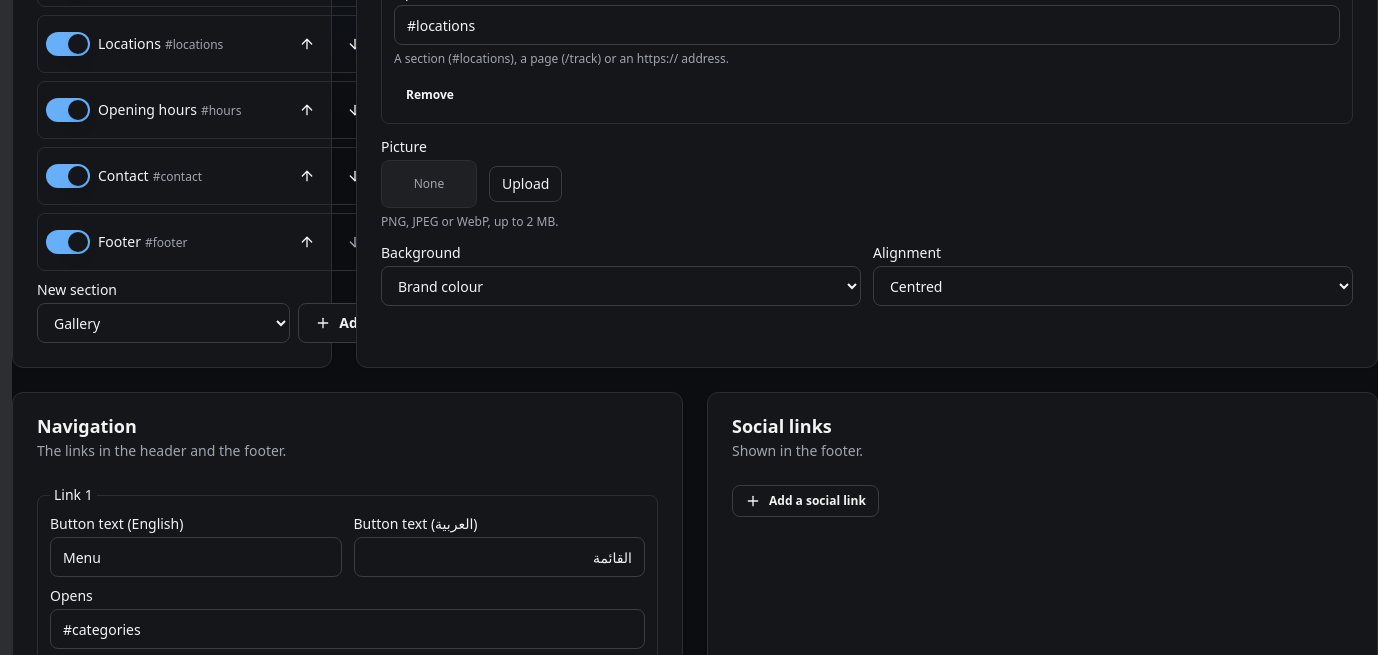
website editor (ADR 0023) › adds a section before the footer and refuses a second footer
(page scrolled)
Select "Testimonials" in the dropdown labelled "New section" at (164, 323), box [37,303,290,343]
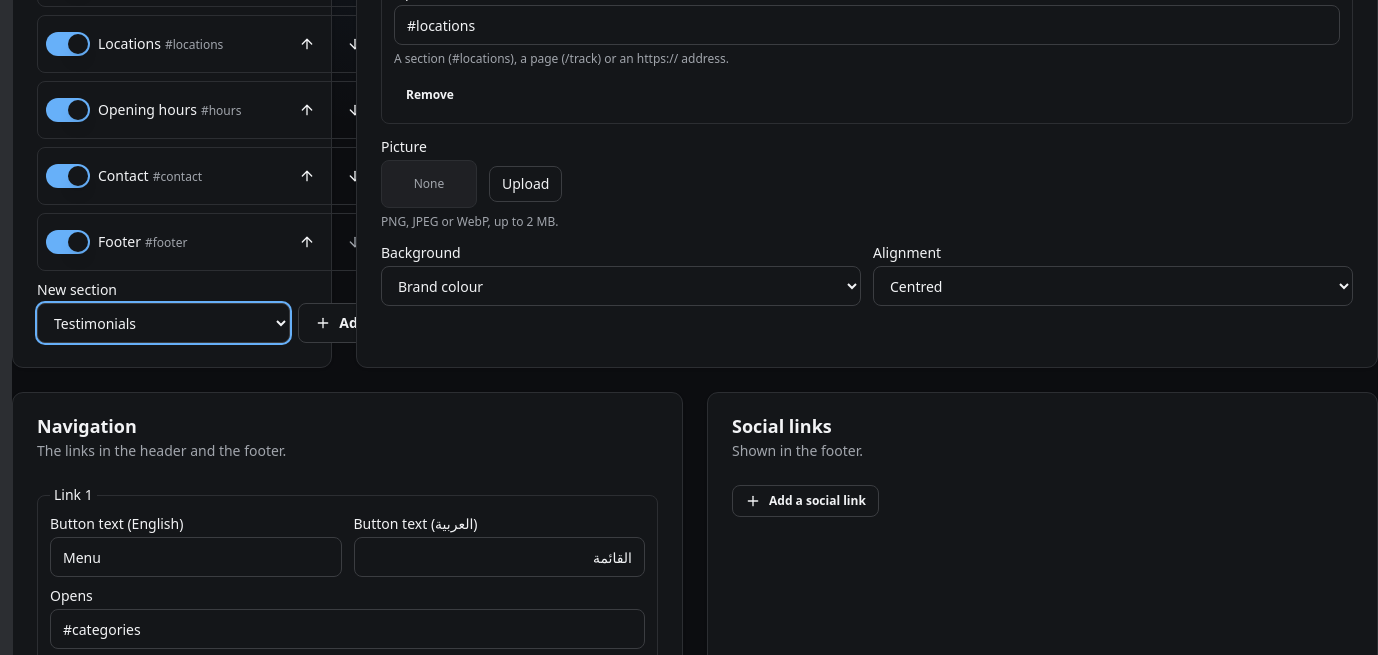
Click the button "Add" at (341, 323), box [298,303,384,343]
(page scrolled)
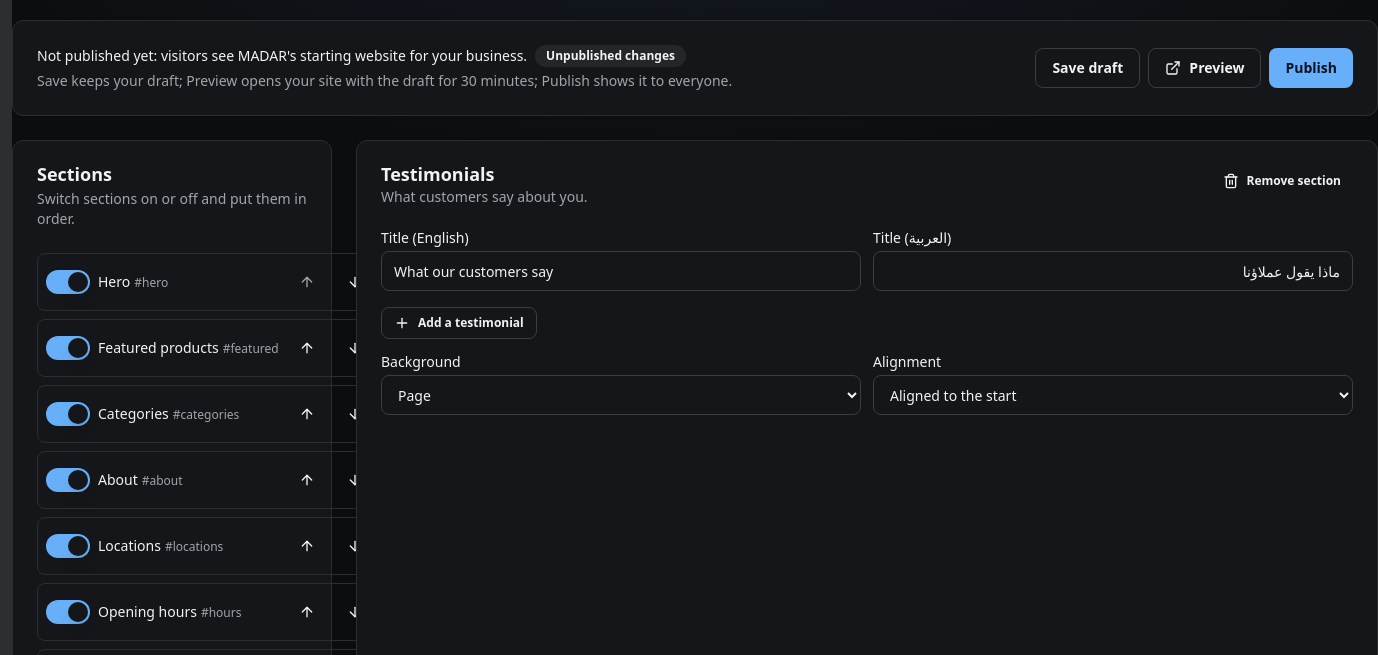
Expected: the button "Add a testimonial" is shown, [381,307,537,339]
